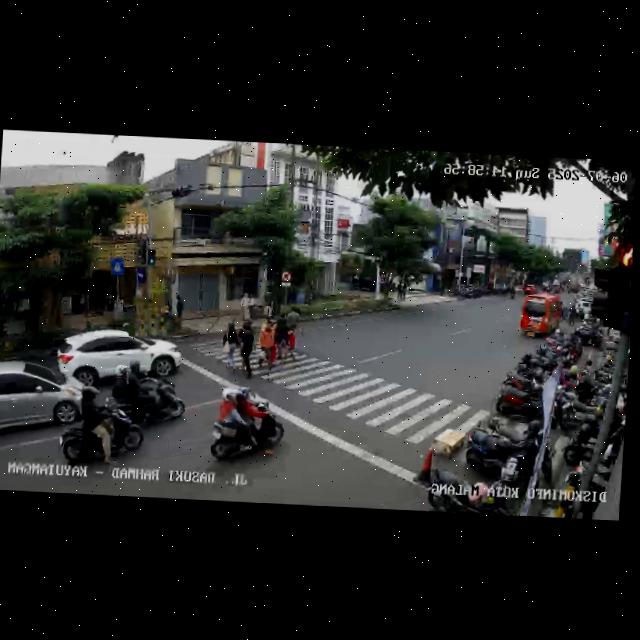car: (54, 327, 184, 390), (0, 358, 84, 448), (517, 292, 564, 340)
motorcycle: (56, 374, 146, 470), (205, 384, 285, 469), (109, 357, 187, 431)
person: (236, 322, 259, 379), (219, 319, 243, 371), (256, 319, 276, 372), (284, 305, 303, 353), (272, 312, 289, 360), (240, 292, 251, 321)
